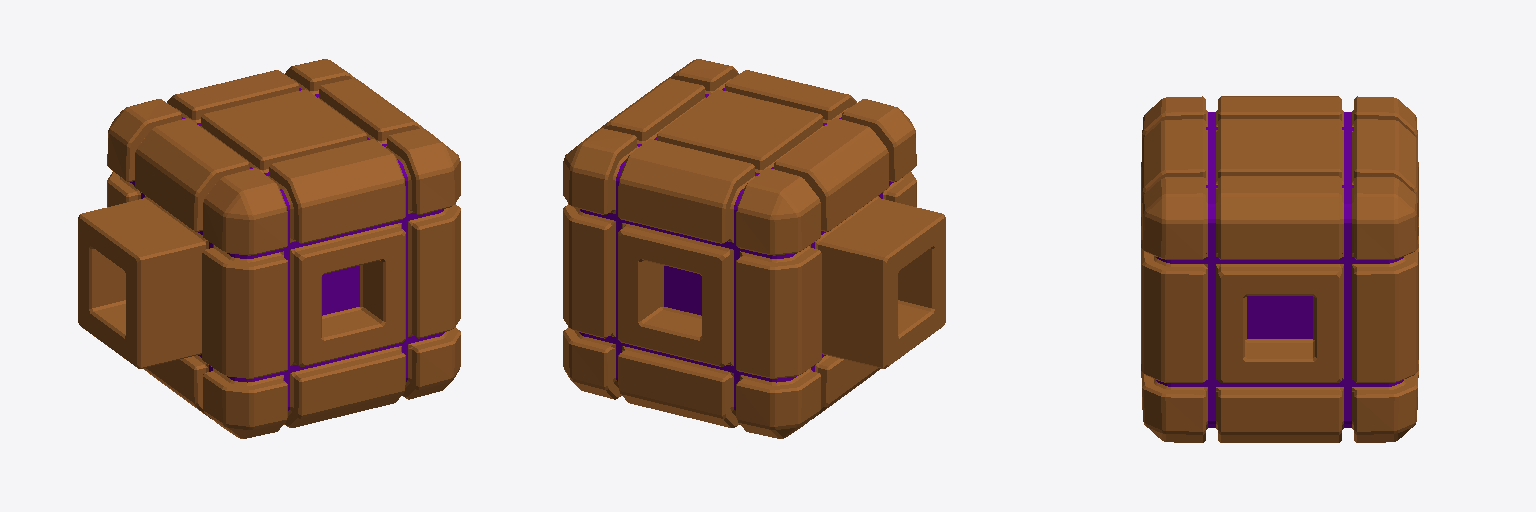
The model's file is cube_camera.obj.
The picture shows the model from 3 angles: view 1: azimuth 30°, elevation 25°; view 2: azimuth 150°, elevation 25°; view 3: azimuth 270°, elevation 25°; orthographic projection.
Parts seen in each view (by area): view 1: camera_cube_Cube.000; view 2: camera_cube_Cube.000; view 3: camera_cube_Cube.000.
Part boxes in pixels (left/top/right/bottom): camera_cube_Cube.000: left=78, top=59, right=460, bottom=438; camera_cube_Cube.000: left=563, top=59, right=945, bottom=438; camera_cube_Cube.000: left=1141, top=96, right=1418, bottom=442.
Bounding box in the file's own units: 2.77 × 2.25 × 2.25.